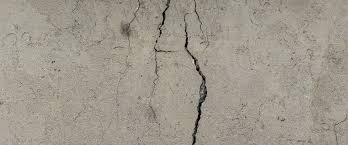crack: (151, 0, 205, 144), (102, 0, 140, 135)
